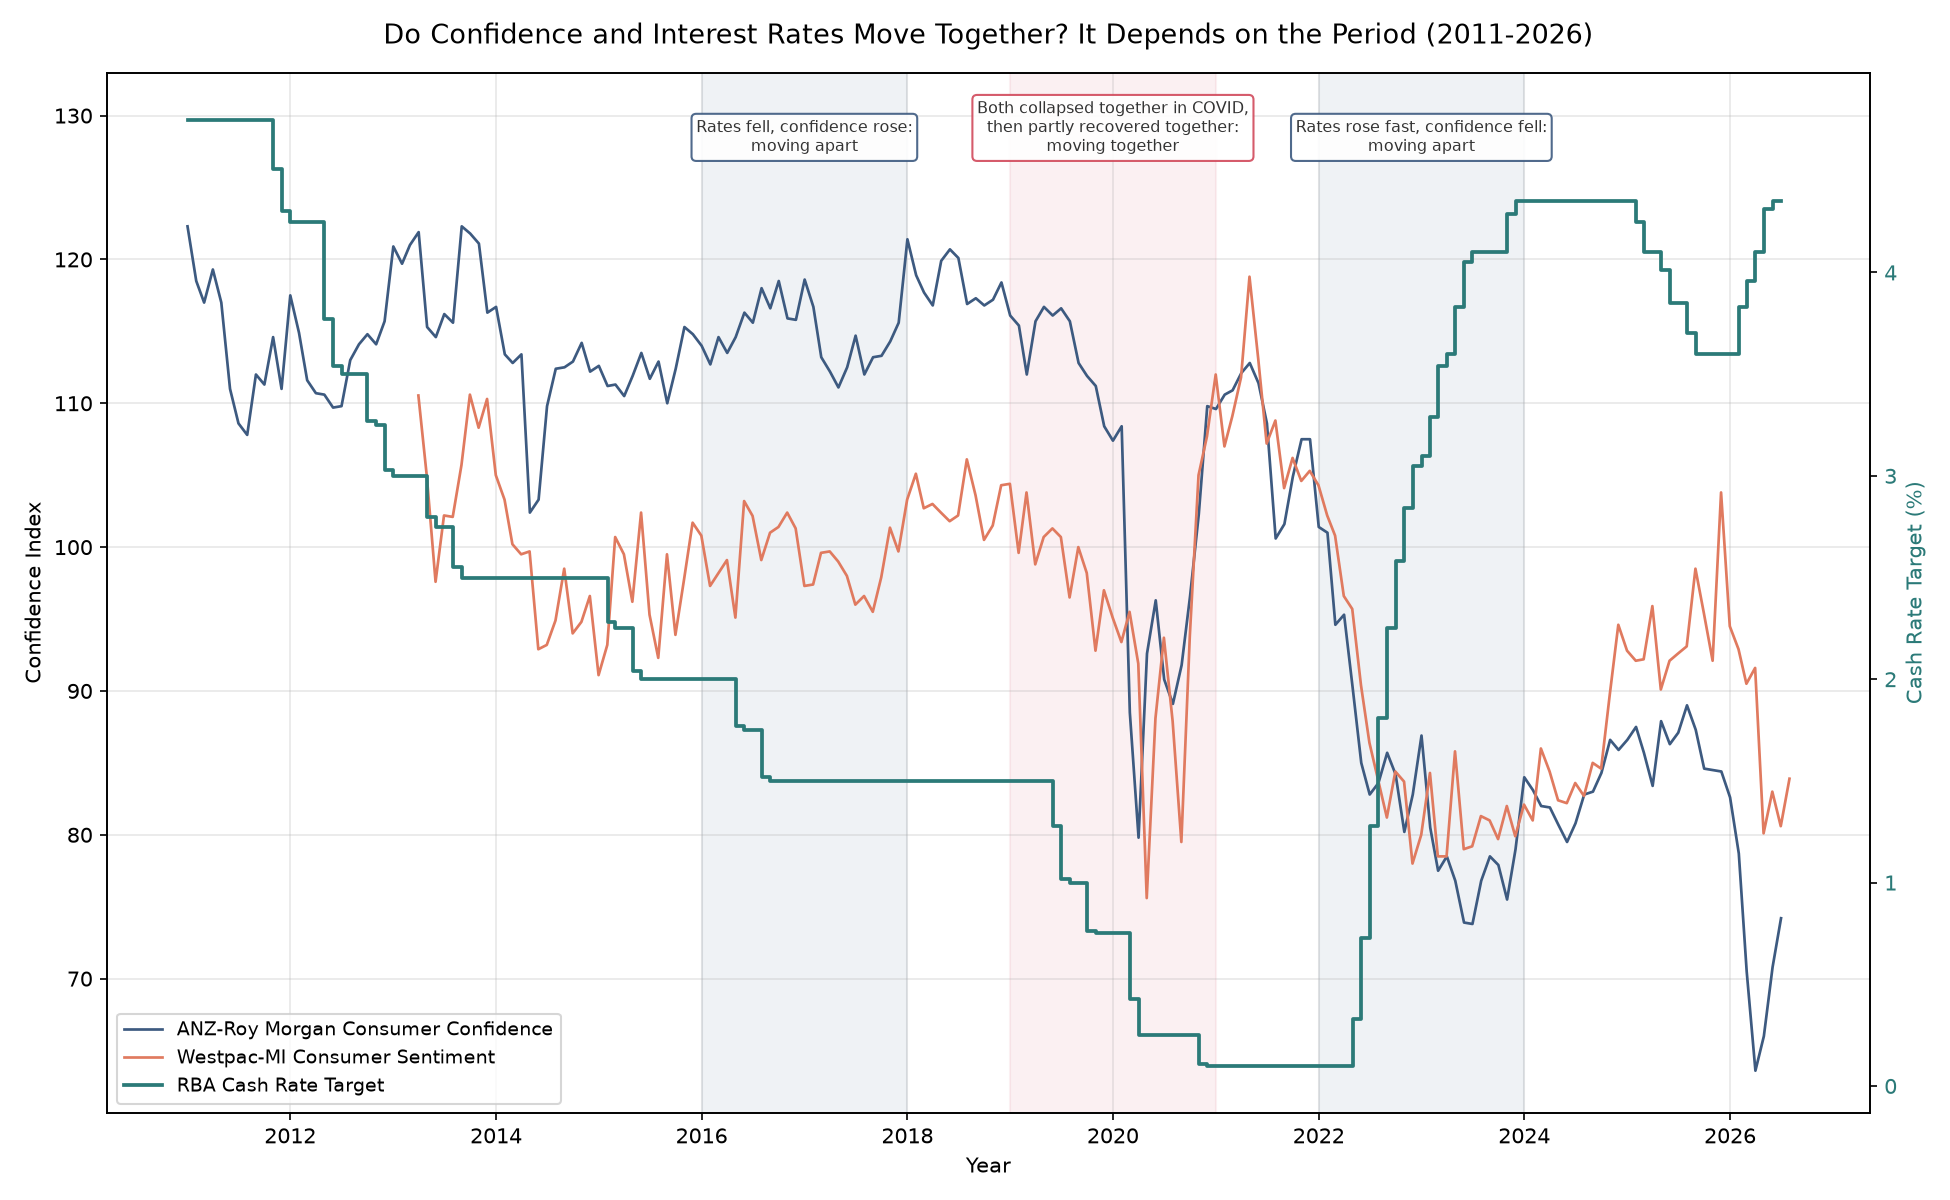

The page's visual inventory and layout, read from the dashboard file:
{"tool":"tableau","page":{"name":"Dashboard 1","canvas":[1200,700],"ordinal":0},"visuals":[{"type":"worksheet","title":"consumer-confidence","mark":"Line","cols":["date"],"box":[8,8,1024,684]},{"type":"legend","title":"consumer-confidence","param":"[federated.16z1r6t0gaf3ny17luwx31begjxi].[:Measure Names]","box":[1032,8,160,66]},{"type":"worksheet","title":"recessions","mark":"GanttBar","cols":["start_date"],"box":[72,57,959,575]},{"type":"text","box":[1032,74,160,112]}]}

Visuals, with their boxes on the page's 1200x700 design canvas (x1, y1, x2, y2). These are canvas units, not pixel positions in the 1950x1200 screenshot, which may show the page scaled, cropped or inside an application window:
"consumer-confidence" worksheet (Line marks): 8:8:1032:692
"consumer-confidence" legend: 1032:8:1192:74
"recessions" worksheet (GanttBar marks): 72:57:1031:632
text: 1032:74:1192:186
